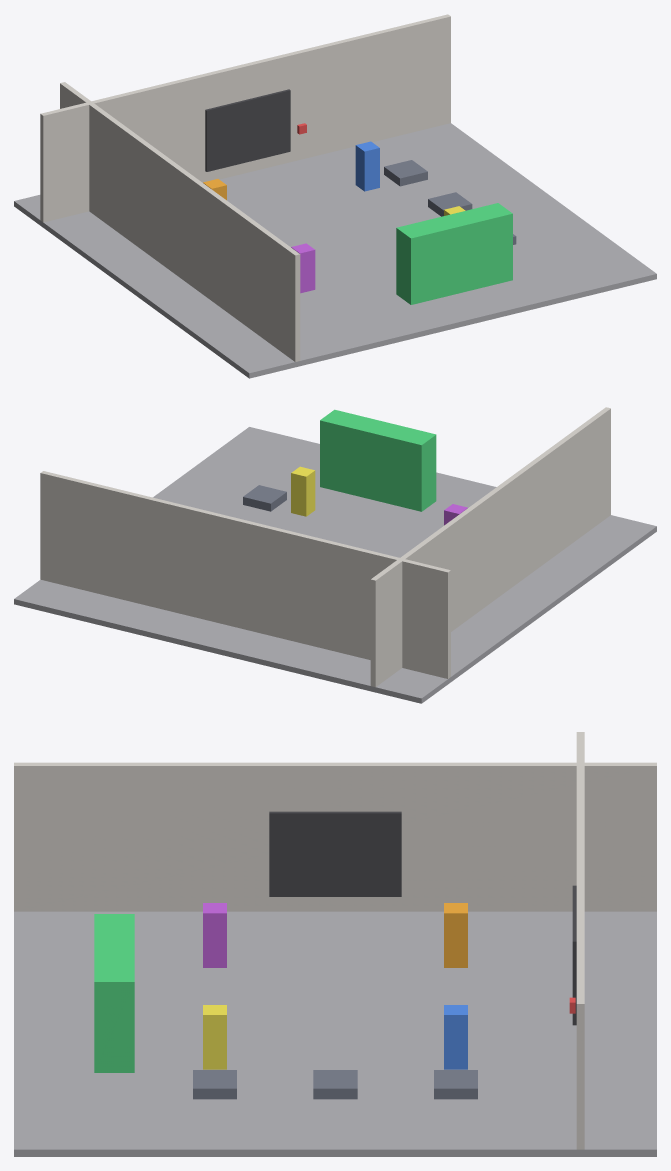
File: mirror-room-close.glb
The picture shows the model from 3 angles, top to bottom: view 1: azimuth 30°, elevation 25°; view 2: azimuth 150°, elevation 25°; view 3: azimuth 270°, elevation 25°; orthographic projection. The views are drawn at different scales.
Parts seen in each view (by area): view 1: Floor, BackWall, LeftWall, BigGreenBlock, BackMirrorFrame, Pillar1, Podium0, Pillar2, Podium1; view 2: BackWall, Floor, LeftWall, BigGreenBlock, Pillar3, Podium2; view 3: Floor, LeftWall, SideMirrorFrame, BigGreenBlock, BackWall, Pillar0, Pillar1, Pillar2, Pillar3, Podium1, Podium0, Podium2 (+1 smaller).
Part boxes in pixels (x1,y1,x2,y2): Floor: (14,123,656,378); BackWall: (40,14,450,222); LeftWall: (60,82,300,361); BigGreenBlock: (396,203,512,304); BackMirrorFrame: (205,89,290,171); Pillar1: (355,141,379,191); Podium0: (384,160,427,186); Pillar2: (291,243,315,293); Podium1: (428,192,472,216); BackWall: (40,471,450,678); Floor: (14,427,656,703); LeftWall: (370,407,610,687); BigGreenBlock: (320,409,436,511); Pillar3: (291,466,315,516); Podium2: (243,485,286,511); Floor: (14,911,656,1156); LeftWall: (14,762,656,911); SideMirrorFrame: (269,811,401,896); BigGreenBlock: (94,914,134,1072); BackWall: (576,732,584,1149); Pillar0: (444,903,467,967); Pillar1: (444,1005,467,1069); Pillar2: (203,903,226,967); Pillar3: (203,1005,226,1069); Podium1: (313,1070,357,1099); Podium0: (434,1070,477,1099); Podium2: (193,1070,236,1099).
Bounding box in the file's own units: 16 × 4.2 × 16.
